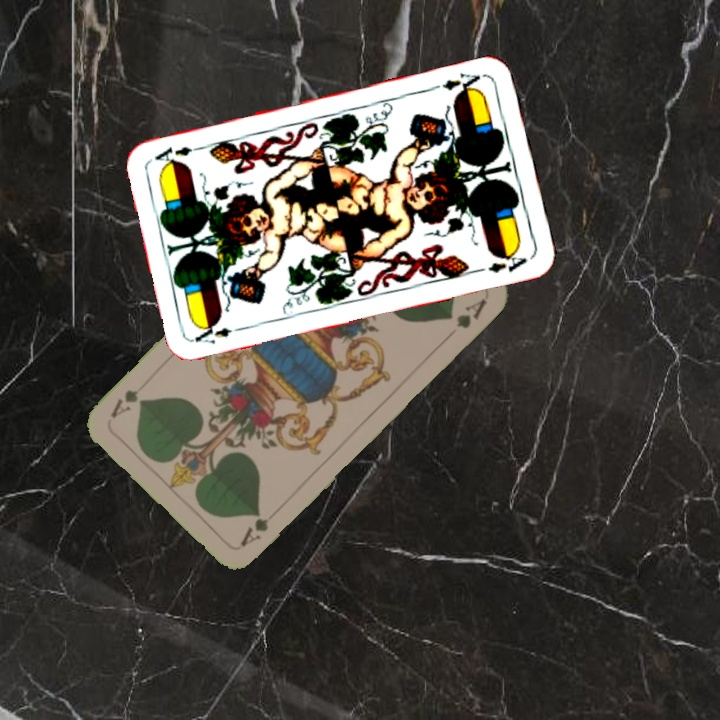EA: (191, 319, 249, 346), (438, 69, 483, 98)
GA: (236, 514, 271, 550)
